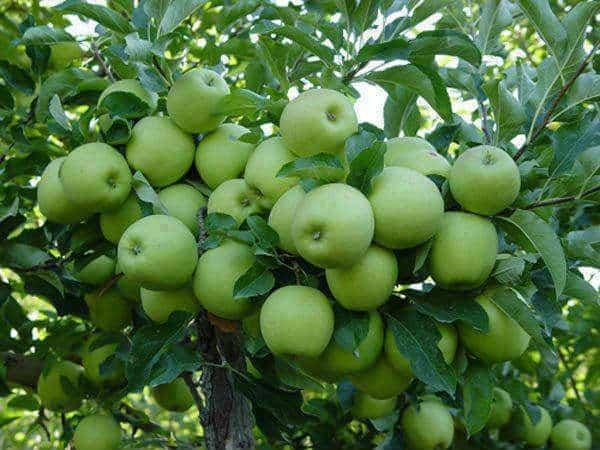apple: (292, 181, 374, 264), (365, 169, 443, 250), (117, 214, 197, 292), (192, 241, 272, 319), (258, 284, 334, 359), (277, 87, 357, 158), (426, 213, 497, 291), (446, 143, 520, 214), (463, 289, 533, 361), (124, 114, 194, 186), (58, 142, 131, 211), (324, 247, 399, 311), (165, 66, 229, 134), (195, 123, 258, 186), (247, 138, 304, 207), (38, 156, 93, 224), (397, 395, 454, 449), (209, 179, 265, 226), (152, 186, 207, 229)
